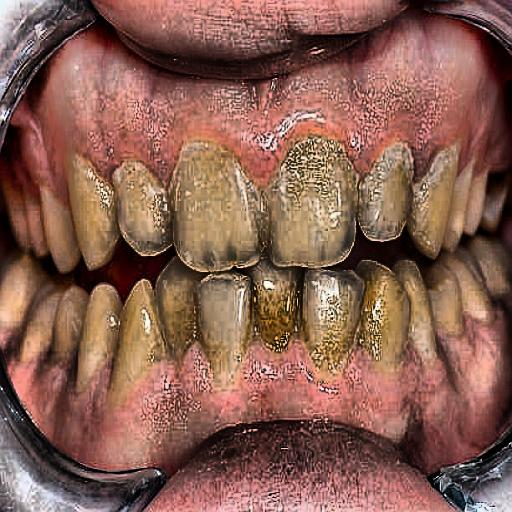Calculus: (50, 110, 494, 368)
